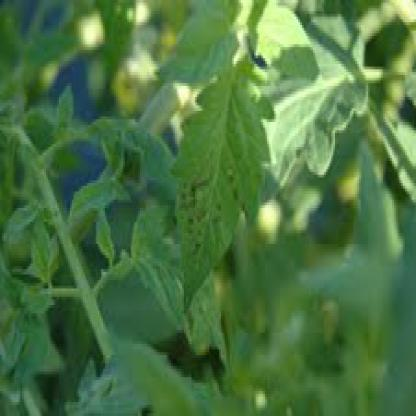tomato leaf bacterial spot: (168, 42, 280, 322)
